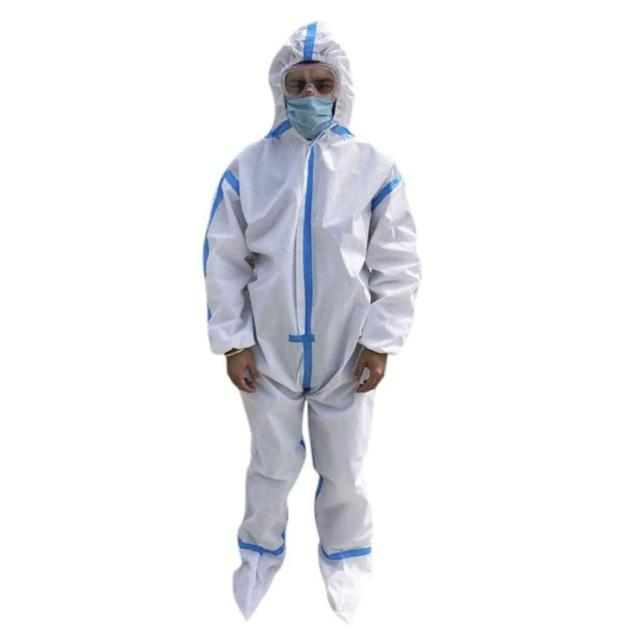Coverall: (201, 17, 421, 625)
Goggles: (279, 63, 344, 104)
Mask: (284, 96, 336, 138)
